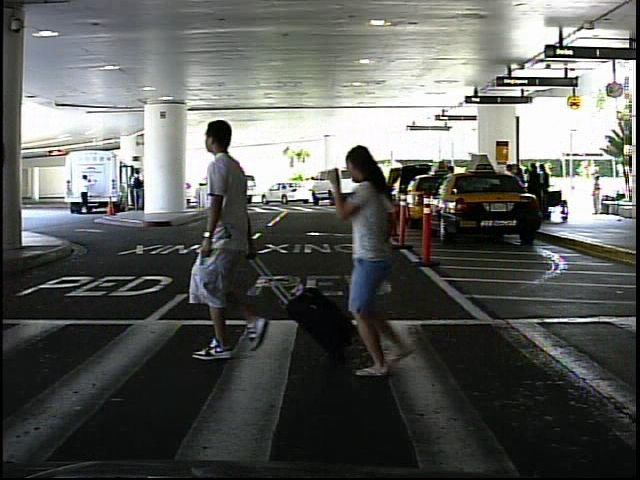person: (174, 102, 299, 368), (338, 134, 439, 380), (76, 172, 94, 222), (588, 172, 607, 218)
